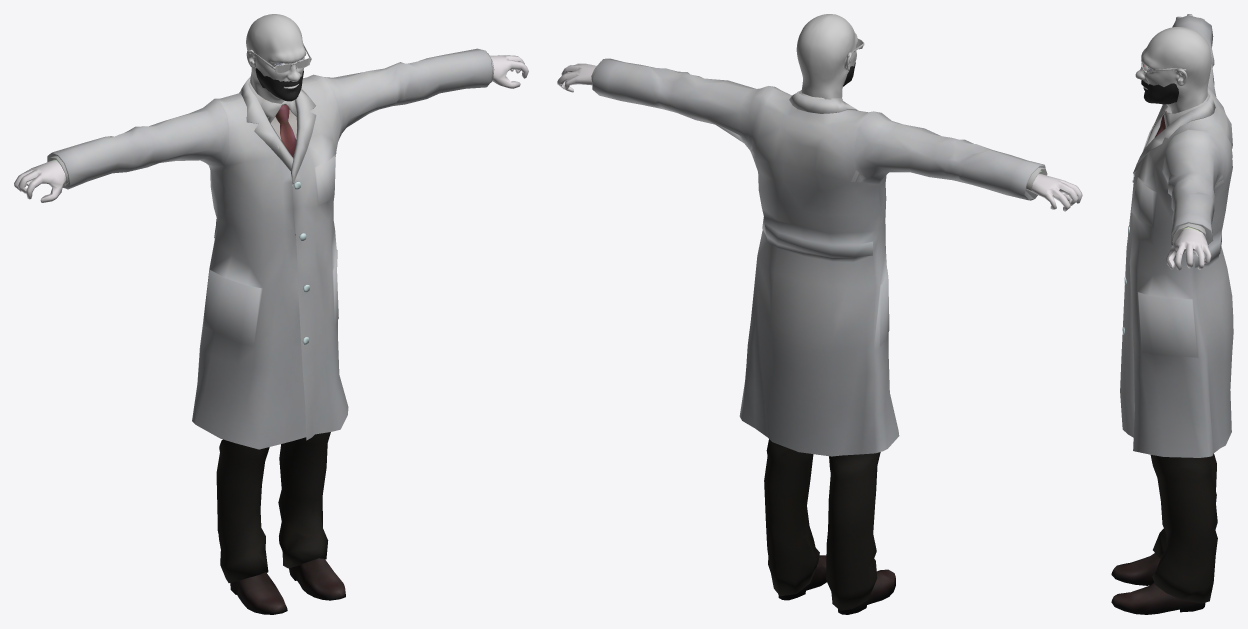
Rendered from CIENTIFICO (2).fbx.
3 views of the same model, side by side, from view 1: azimuth 30°, elevation 25°; view 2: azimuth 150°, elevation 25°; view 3: azimuth 270°, elevation 25° (orthographic). The views are drawn at different scales.
Visible parts, largest first — view 1: cube_24_shirt_1_0_0.001, cube.001_24_pants_1_0_0.001, cube.003_40_part2-Model-0-Mesh-0-0_0.4_0_0.001, cube.002_24_shoes_1_0_0.001, cube_24_hands_1_0_0, plane.001_25_+part2-beard.part2-Mesh1_1_0_0; view 2: cube_24_shirt_1_0_0.001, cube.001_24_pants_1_0_0.001, cube.003_40_part2-Model-0-Mesh-0-0_0.4_0_0.001, cube_24_hands_1_0_0, cube.002_24_shoes_1_0_0.001; view 3: cube_24_shirt_1_0_0.001, cube.001_24_pants_1_0_0.001, cube.003_40_part2-Model-0-Mesh-0-0_0.4_0_0.001, cube.002_24_shoes_1_0_0.001, cube_24_hands_1_0_0, plane.001_25_+part2-beard.part2-Mesh1_1_0_0.
Boxes of the visible parts, x1=… form: cube_24_shirt_1_0_0.001: x1=47, y1=48, x2=494, y2=449; cube.001_24_pants_1_0_0.001: x1=216, y1=234, x2=330, y2=582; cube.003_40_part2-Model-0-Mesh-0-0_0.4_0_0.001: x1=246, y1=14, x2=306, y2=103; cube.002_24_shoes_1_0_0.001: x1=230, y1=558, x2=345, y2=614; cube_24_hands_1_0_0: x1=14, y1=55, x2=528, y2=202; plane.001_25_+part2-beard.part2-Mesh1_1_0_0: x1=255, y1=68, x2=303, y2=101; cube_24_shirt_1_0_0.001: x1=591, y1=58, x2=1047, y2=456; cube.001_24_pants_1_0_0.001: x1=764, y1=439, x2=880, y2=610; cube.003_40_part2-Model-0-Mesh-0-0_0.4_0_0.001: x1=796, y1=14, x2=857, y2=99; cube_24_hands_1_0_0: x1=557, y1=63, x2=1082, y2=211; cube.002_24_shoes_1_0_0.001: x1=778, y1=555, x2=895, y2=614; cube_24_shirt_1_0_0.001: x1=1120, y1=15, x2=1233, y2=457; cube.001_24_pants_1_0_0.001: x1=1150, y1=453, x2=1217, y2=603; cube.003_40_part2-Model-0-Mesh-0-0_0.4_0_0.001: x1=1135, y1=27, x2=1211, y2=113; cube.002_24_shoes_1_0_0.001: x1=1111, y1=553, x2=1205, y2=614; cube_24_hands_1_0_0: x1=1166, y1=14, x2=1211, y2=270; plane.001_25_+part2-beard.part2-Mesh1_1_0_0: x1=1141, y1=80, x2=1178, y2=104.
Size of the model in its own units: 171 by 185 by 36.22.
